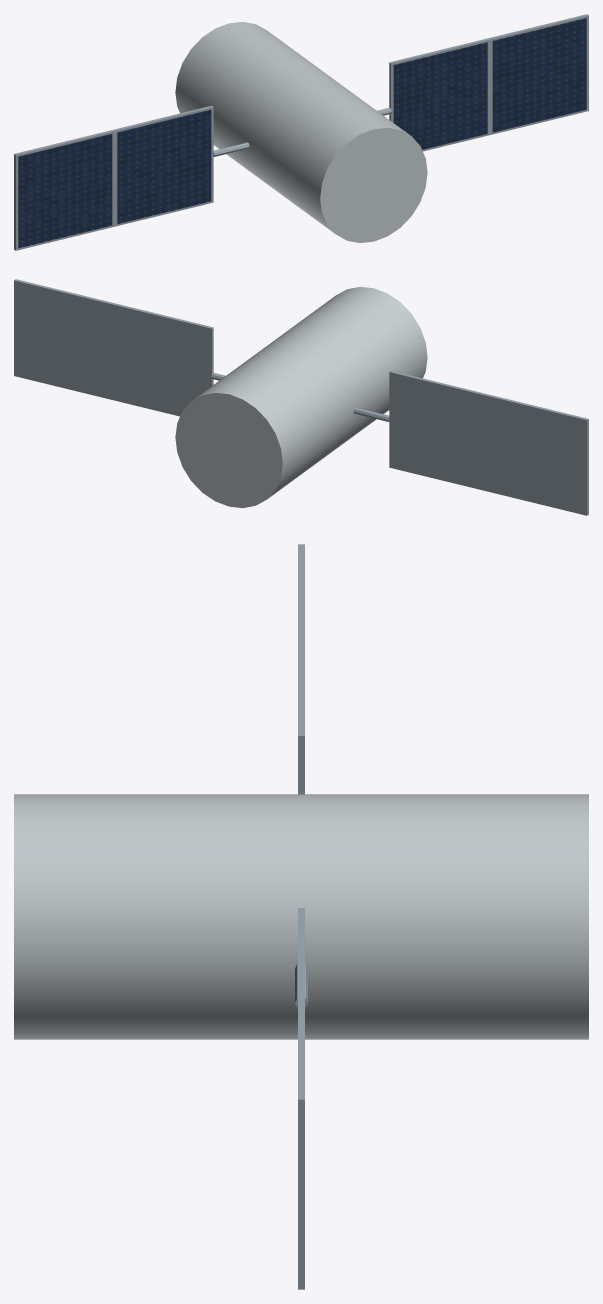
File: ref-spaceeye-t-63229.glb
3 views of the same model, one above another, from view 1: azimuth 30°, elevation 25°; view 2: azimuth 150°, elevation 25°; view 3: azimuth 270°, elevation 25° (orthographic). The views are drawn at different scales.
Parts seen in each view (by area): view 1: Photovoltaic laminates (×4), Spacecraft body, Array frame (×4); view 2: Array frame (×4), Spacecraft body; view 3: Spacecraft body, Array frame (×2).
Boxes of the visible parts, x1,y1,x2,y2 form: Photovoltaic laminates (×4): (18,18,586,248); Spacecraft body: (175,22,427,242); Array frame (×4): (14,14,588,250); Array frame (×4): (14,279,588,515); Spacecraft body: (175,287,427,507); Spacecraft body: (14,794,588,1039); Array frame (×2): (298,640,304,1289).
Bounding box in the file's own units: 8 × 1.5 × 3.5.
Materials: 3 (1 with a texture image).
